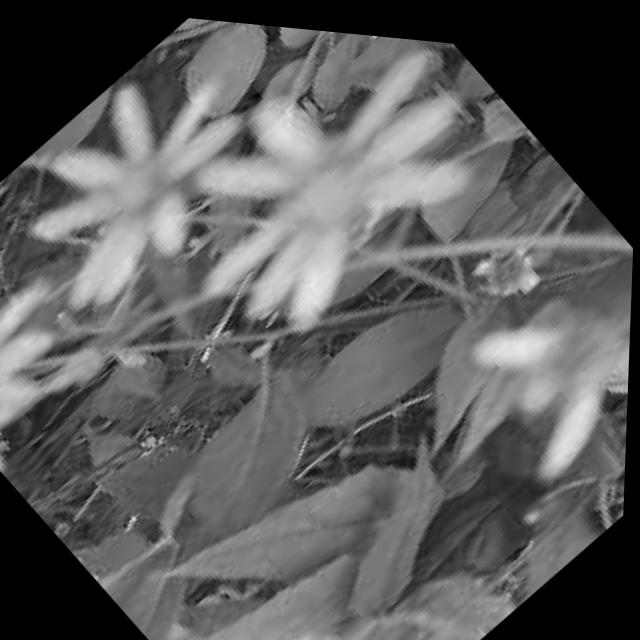Flower: (136, 11, 498, 373), (0, 31, 298, 371), (443, 233, 634, 493)
